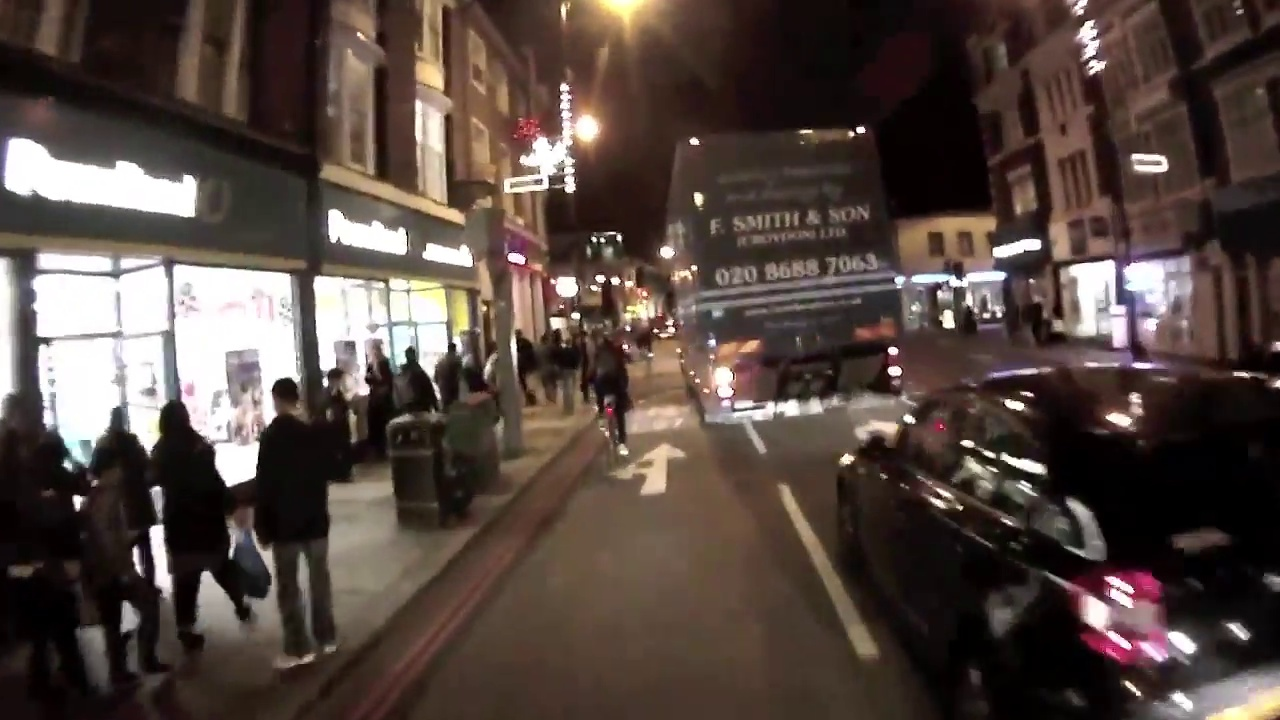cyclist_back: (591, 333, 638, 473)
